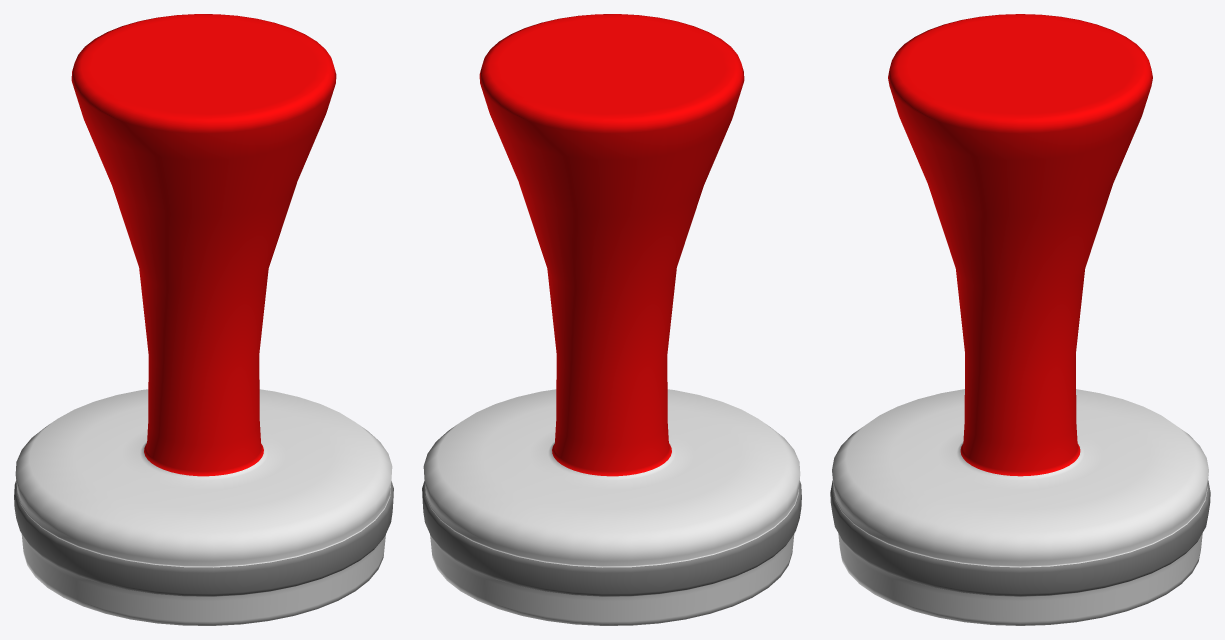
The model's file is Stamp.fbx.
The picture shows the model from 3 angles, left to right: view 1: azimuth 30°, elevation 25°; view 2: azimuth 150°, elevation 25°; view 3: azimuth 270°, elevation 25°; orthographic projection.
Visible parts, largest first — view 1: Stamp; view 2: Stamp; view 3: Stamp.
Part boxes in pixels (x1,y1,x2,y2): Stamp: [14, 14, 393, 625]; Stamp: [422, 14, 801, 625]; Stamp: [830, 14, 1210, 625].
Size of the model in its own units: 1.98 by 2.78 by 1.98.
